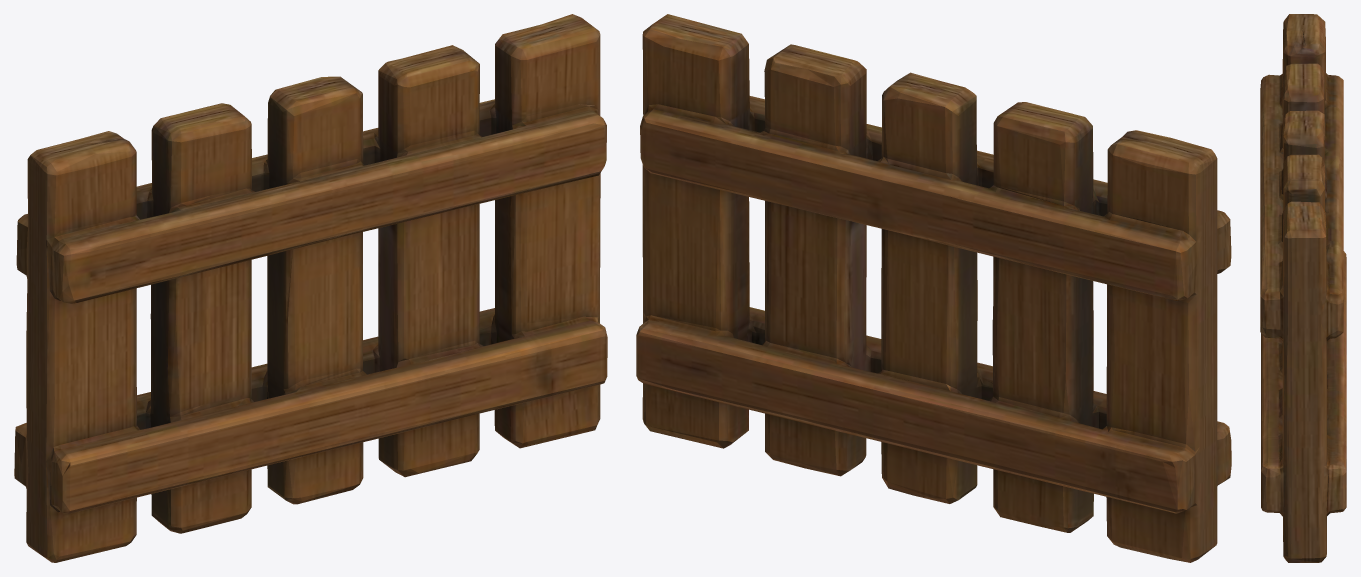
The model's file is meshy_fence_board_gate_lod0.glb.
The picture shows the model from 3 angles, left to right: view 1: azimuth 30°, elevation 25°; view 2: azimuth 150°, elevation 25°; view 3: azimuth 270°, elevation 25°; orthographic projection. The views are drawn at different scales.
Visible parts, largest first — view 1: meshy_fence_board_gate; view 2: meshy_fence_board_gate; view 3: meshy_fence_board_gate.
Boxes of the visible parts, x1,y1,x2,y2 form: meshy_fence_board_gate: (14, 14, 607, 562); meshy_fence_board_gate: (636, 14, 1231, 562); meshy_fence_board_gate: (1260, 14, 1346, 562).
Size of the model in its own units: 2.01 by 1.4 by 0.3278.
1 material, 1 textured.
